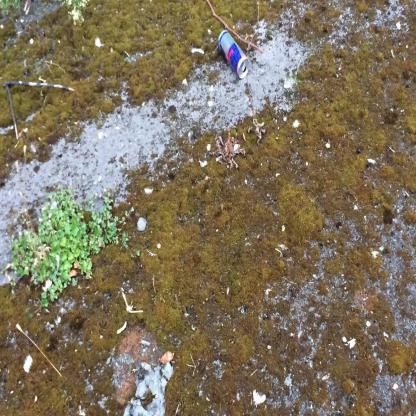metal: (219, 31, 250, 82)
